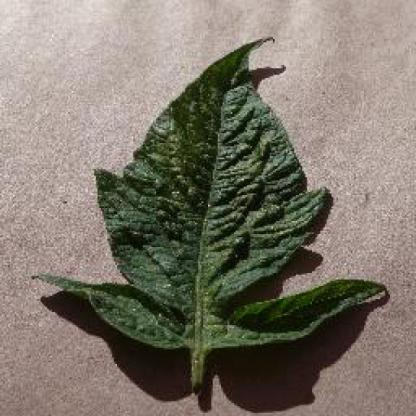Tomato_Spider_Mites: (33, 35, 386, 341)
